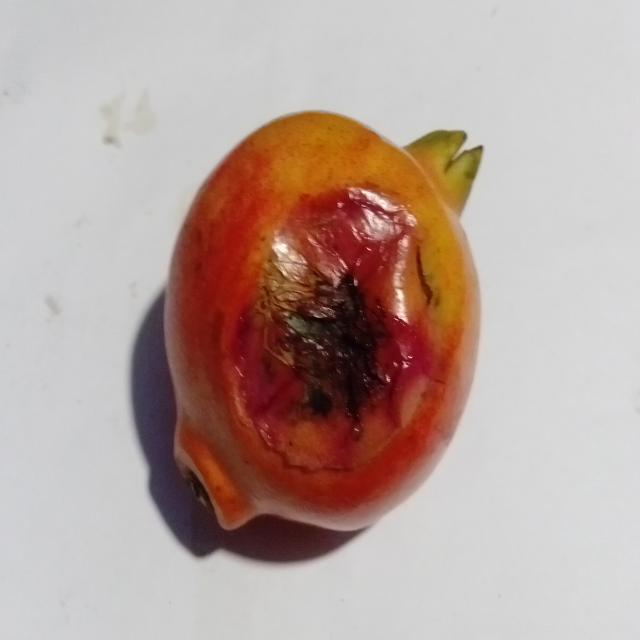Rotten: (164, 109, 483, 533)
